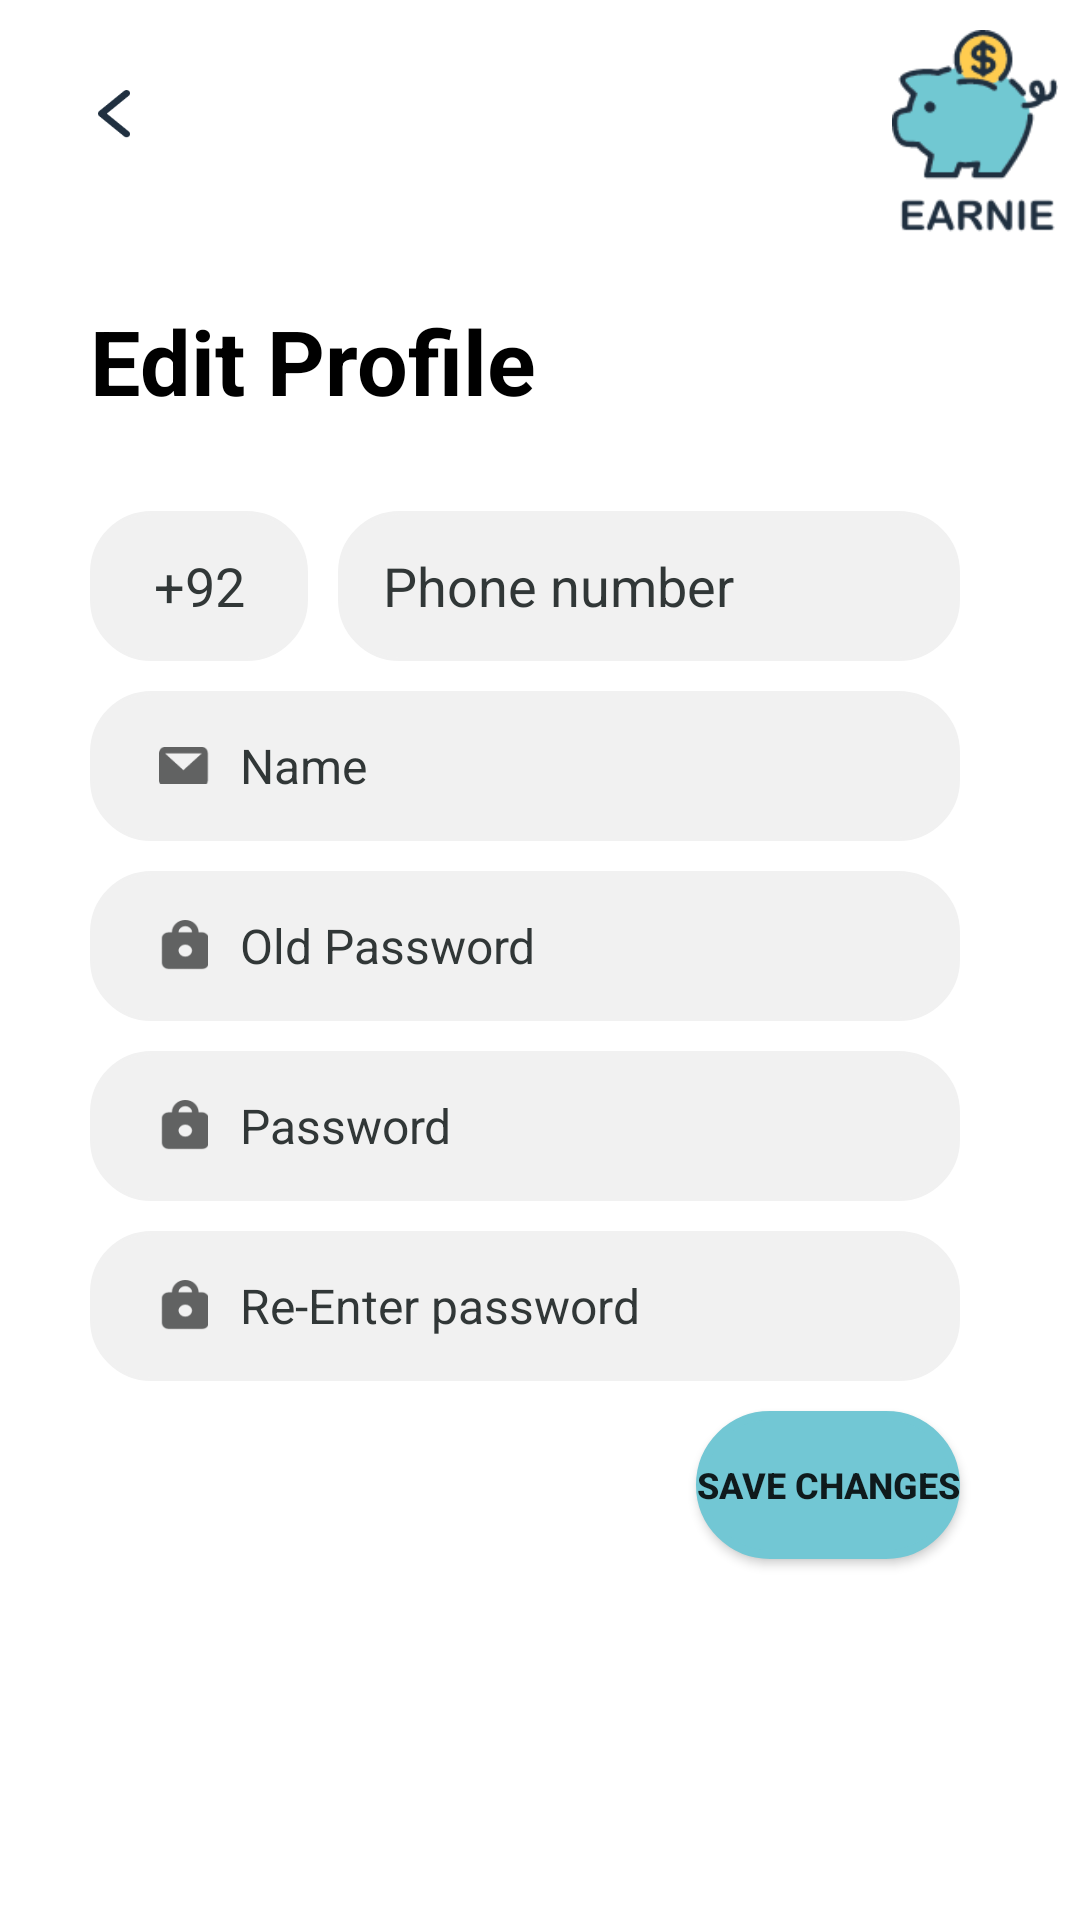

Icon bounding boxes for this 1080w x 1920h phone screenshot, format (x1,y1,x2,y2):
back: (98,90,130,138)
lock: (161,920,208,969), (161,1100,208,1149), (161,1280,208,1329)
mail: (159,747,208,784)
